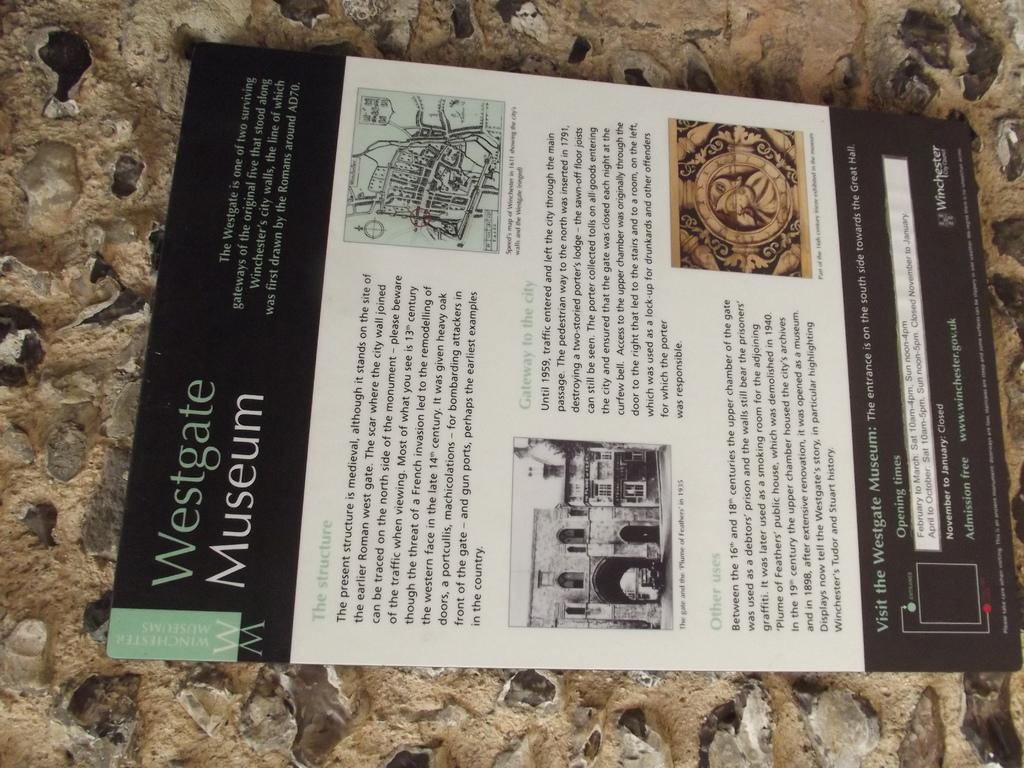Book: (105, 40, 1019, 670)
